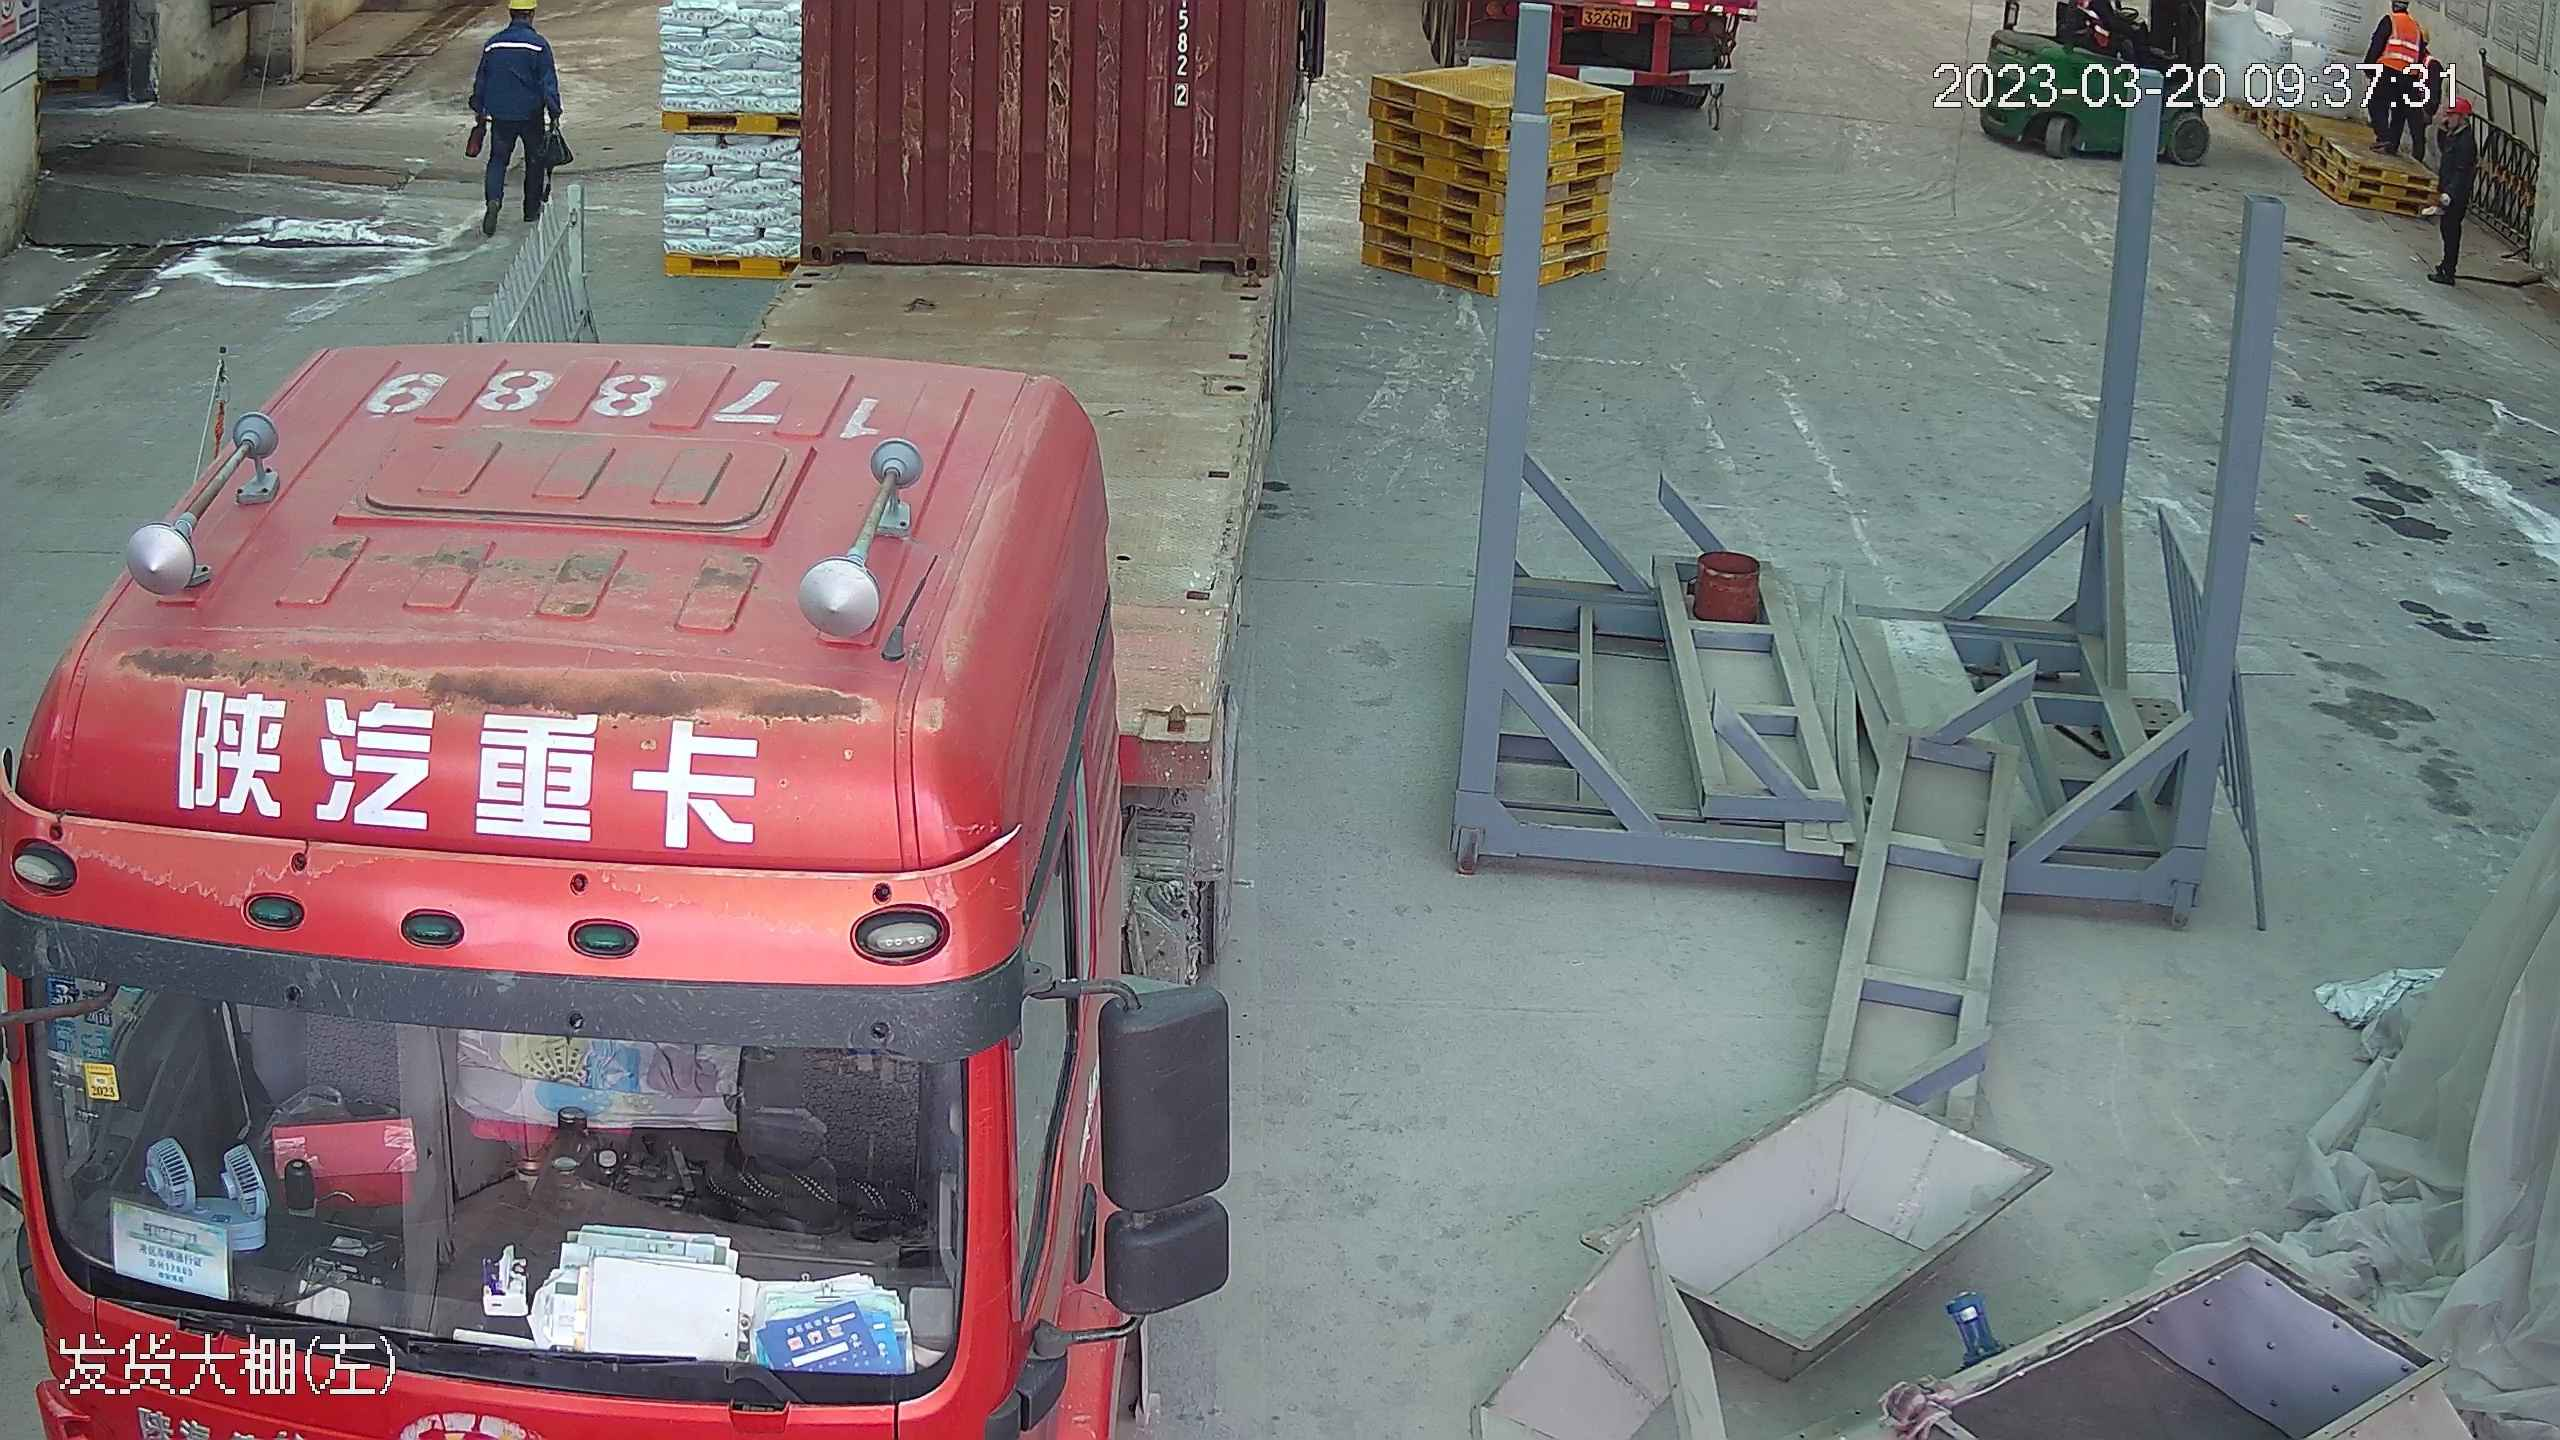head: (2373, 21, 2426, 105), (481, 1, 551, 63), (2438, 89, 2484, 151)
helmet: (2385, 7, 2417, 35), (2447, 88, 2475, 112), (505, 1, 540, 9)
people: (455, 1, 570, 234), (2428, 82, 2484, 288), (2371, 21, 2430, 167)
truck: (1, 3, 1277, 1440)
